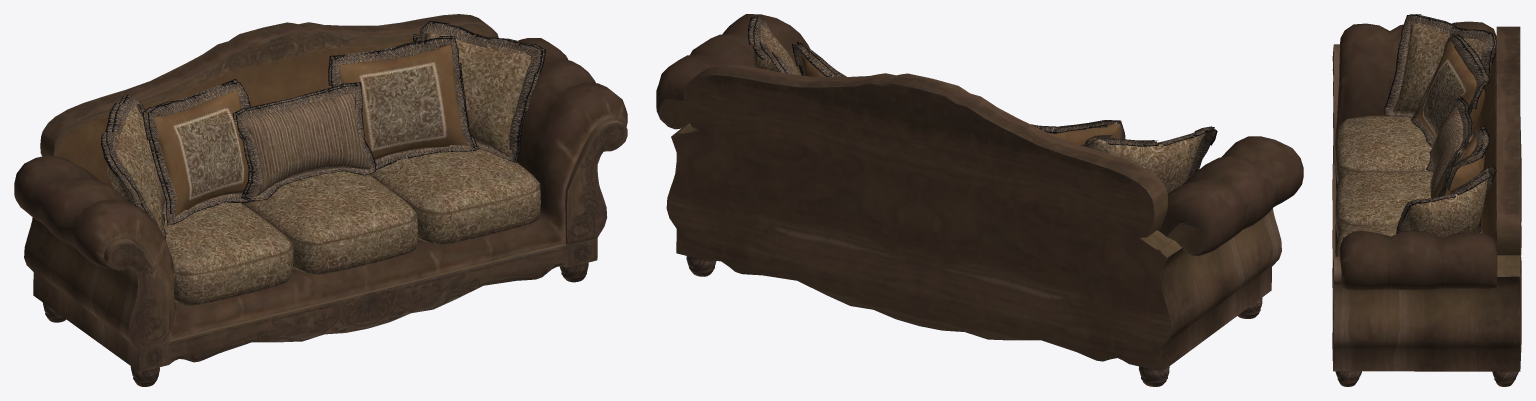
Rendered from sofa_03.glb.
3 views of the same model, side by side, from view 1: azimuth 30°, elevation 25°; view 2: azimuth 150°, elevation 25°; view 3: azimuth 270°, elevation 25° (orthographic). The views are drawn at different scales.
Parts seen in each view (by area): view 1: sofa_03; view 2: sofa_03; view 3: sofa_03.
Boxes of the visible parts, x1,y1,x2,y2 form: sofa_03: [14, 14, 627, 386]; sofa_03: [656, 14, 1303, 386]; sofa_03: [1332, 14, 1521, 386].
Bounding box in the file's own units: 2.73 × 1.12 × 0.9251.
2 materials, 2 textured.
